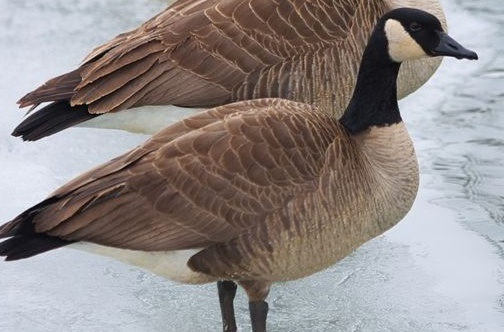goose: (2, 6, 487, 327)
